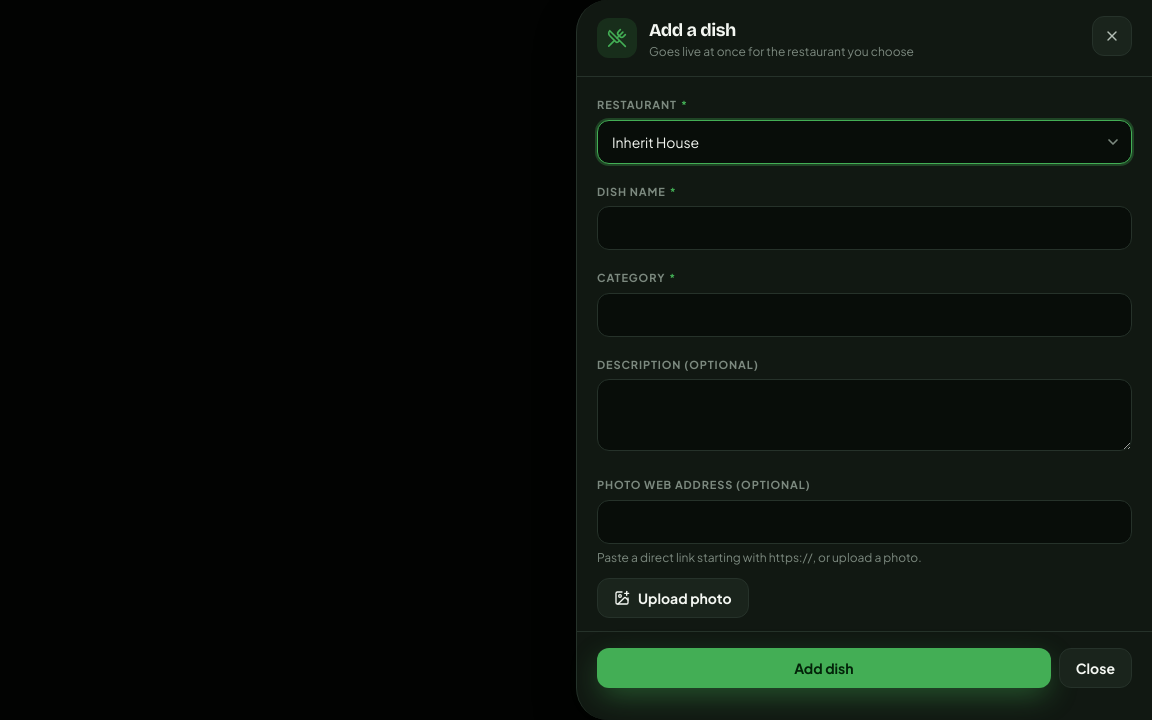
Scenario: create: which price box? › a default of Percent keeps the restaurant price; an unreadable default does too (the server decides)
Select "Inherit House" in the dropdown with id "dish-vendor" at {"x": 864, "y": 142}, box [597,120,1132,164]
Select "Inherit House" in the dropdown with id "dish-vendor" at {"x": 864, "y": 142}, box [597,120,1132,164]
(page scrolled)
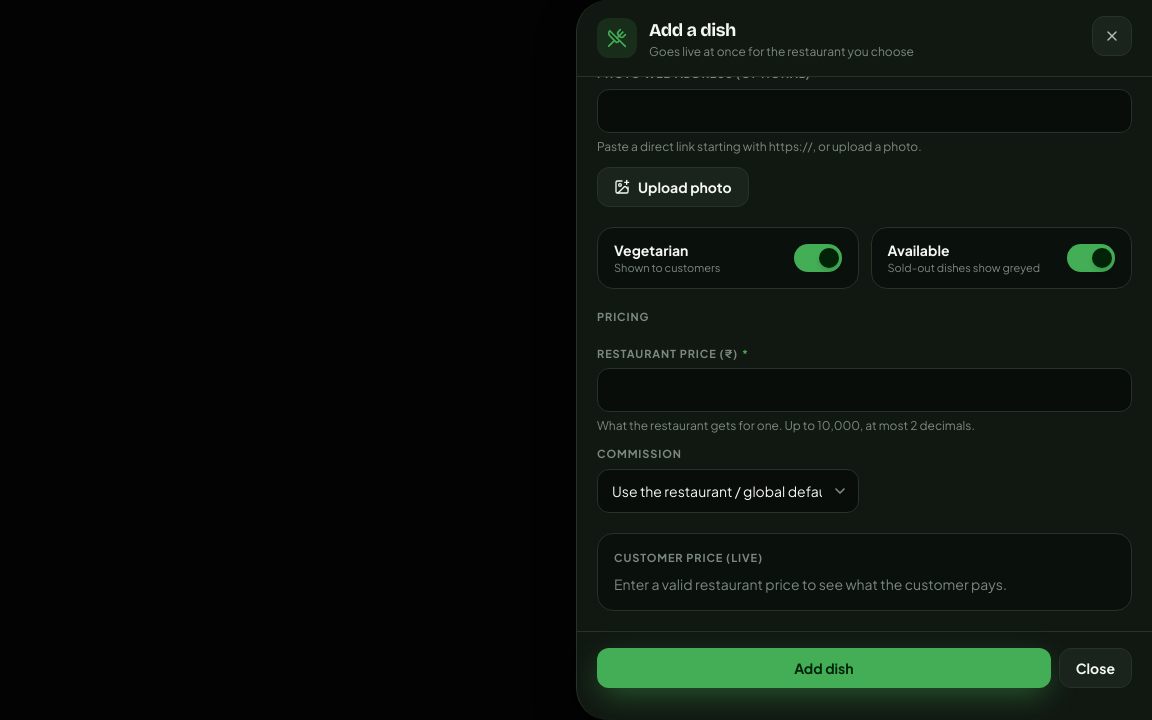
expect the label "Restaurant price (₹) *" is shown: met, box [597,346,749,360]
